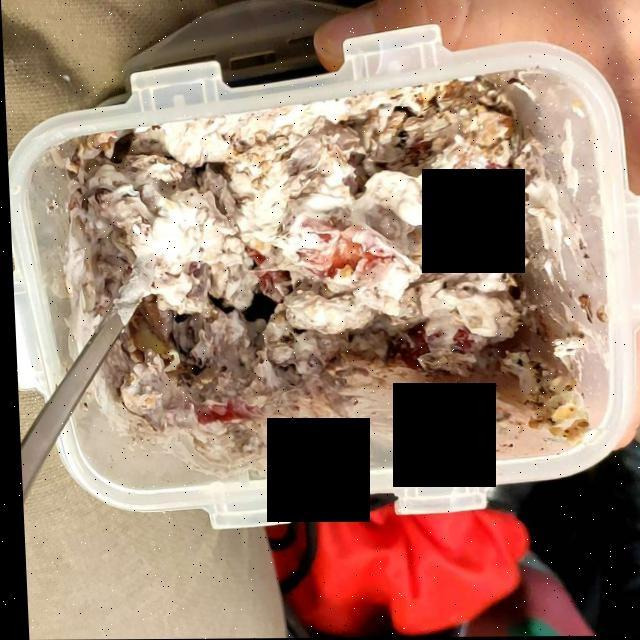curds: (135, 123, 536, 414)
oats: (55, 82, 591, 473)
